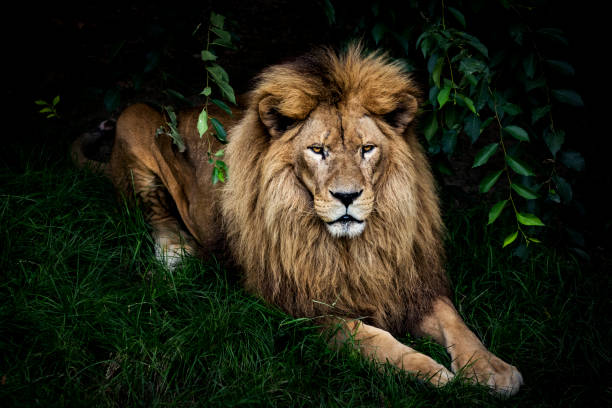lion: (205, 34, 494, 368)
